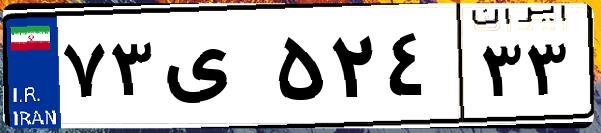2: (330, 28, 385, 110)
3: (475, 38, 525, 113), (525, 38, 570, 115), (110, 28, 158, 98)
4: (385, 28, 445, 110)
5: (270, 28, 330, 110)
7: (57, 26, 110, 100)
ی: (158, 20, 270, 120)
